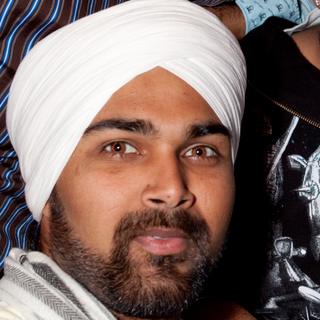eye: (95, 136, 144, 162), (180, 140, 224, 165)
